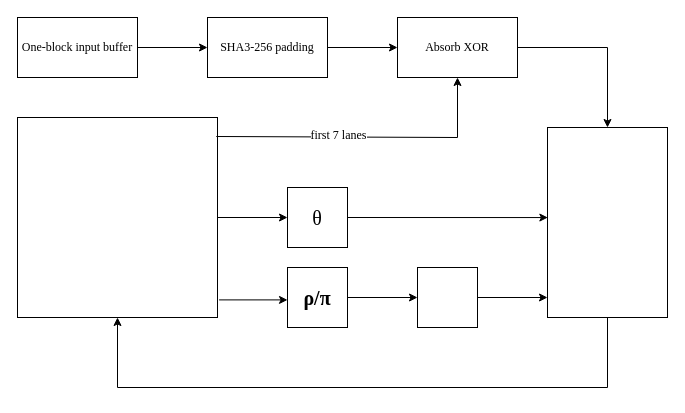
Image size: 685x413. Some labels were removed from this diagram. Each missing label, with the centre of its shape:
"State bank 25 × 64-bit lanes" belongs at point (117, 217).
"Write selection" belongs at point (607, 222).
"χ/ι" belongs at point (447, 297).
